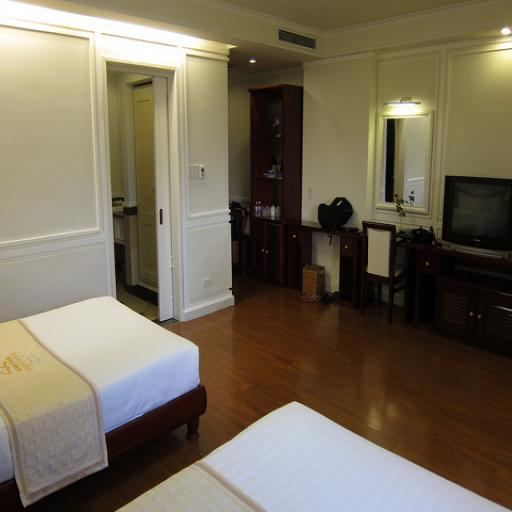bed: (2, 260, 215, 500)
